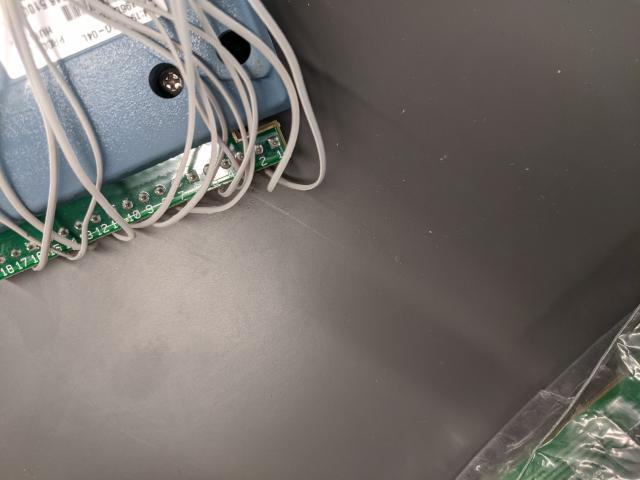CRS: (154, 64, 186, 97)
